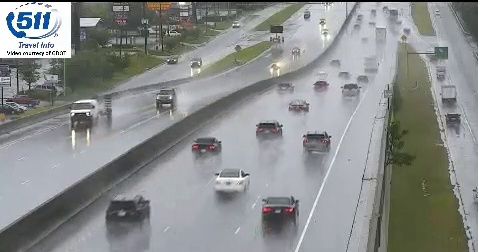car: (106, 194, 151, 225), (262, 197, 298, 222), (215, 169, 249, 193), (191, 137, 222, 157), (303, 130, 331, 150), (256, 122, 282, 140), (289, 100, 308, 114), (343, 83, 360, 98)
